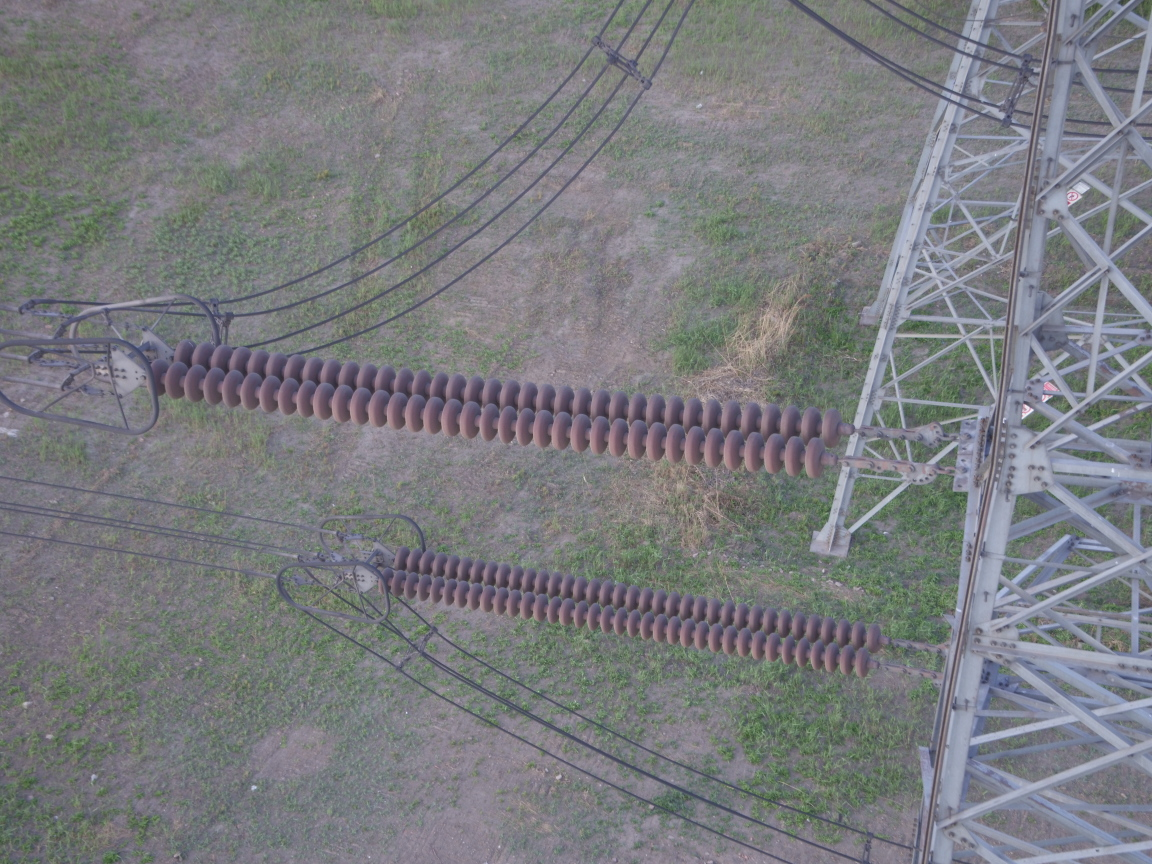insulator: (131, 333, 888, 483), (374, 542, 908, 681)
